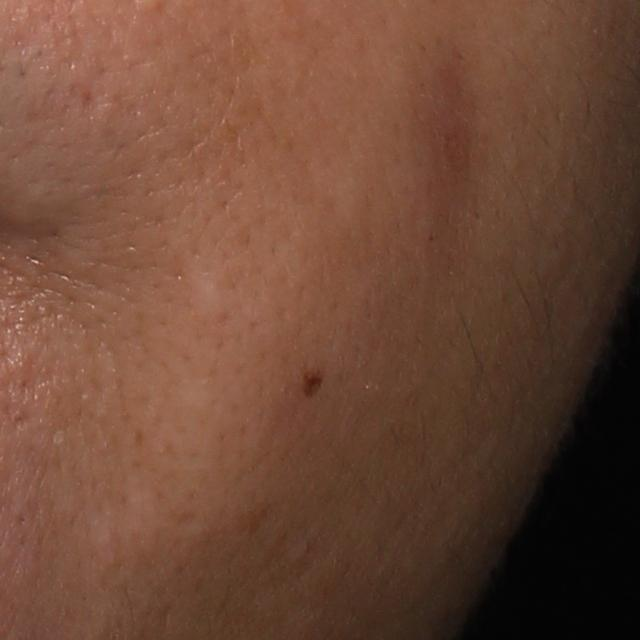hypertrophic_scar: (179, 256, 240, 320)
nevus: (300, 366, 327, 400)
